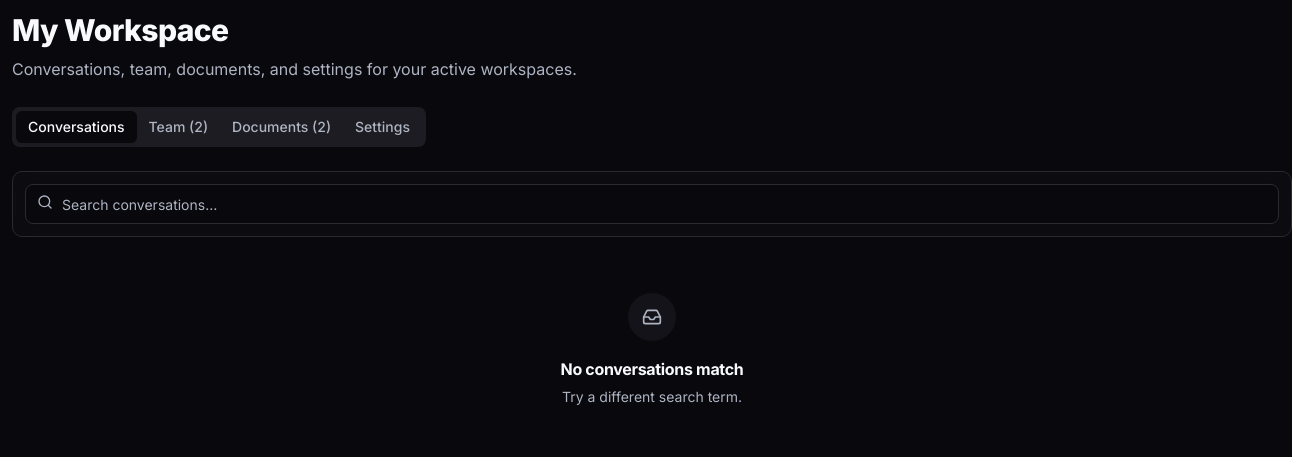
MyWorkspace: real backend wiring › renders team members from /teams/{bookingId}/members
Click the tab "Team (2)" at x=178, y=127, box [136,111,220,143]
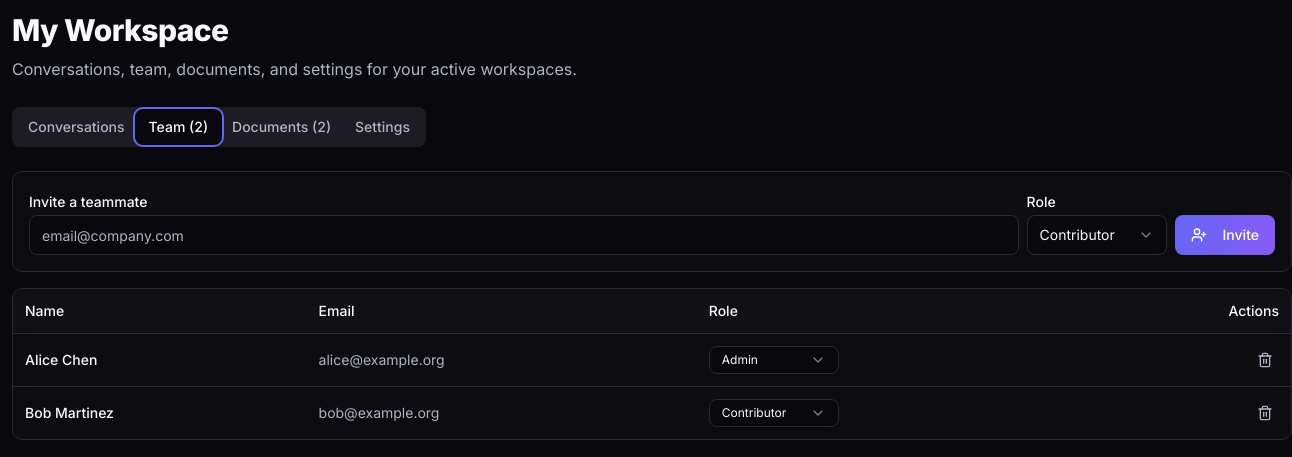
Now the text "Alice Chen" is shown, box [13,334,307,387]
Now the text "Bob Martinez" is shown, box [13,387,307,439]
